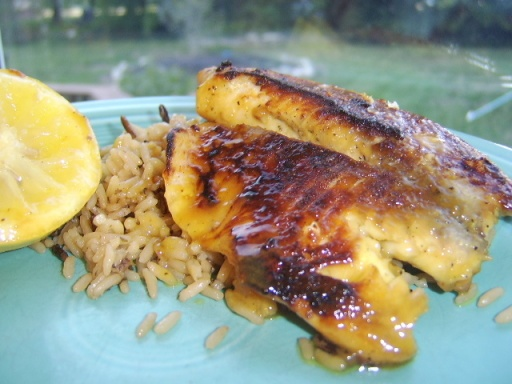background: (0, 35, 410, 218)
